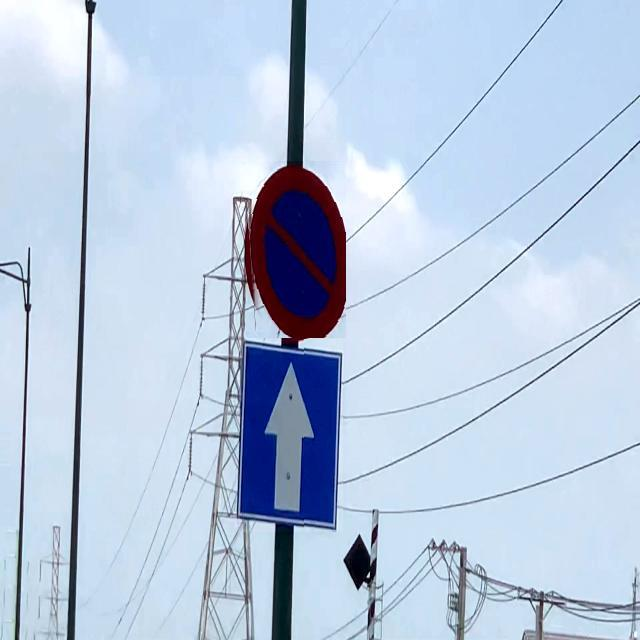P-131a: (244, 161, 346, 338)
R-407a: (236, 339, 343, 532)
